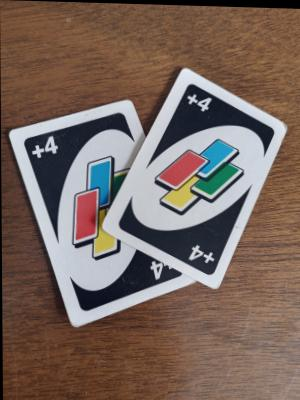wild-4: (52, 138, 136, 273)
